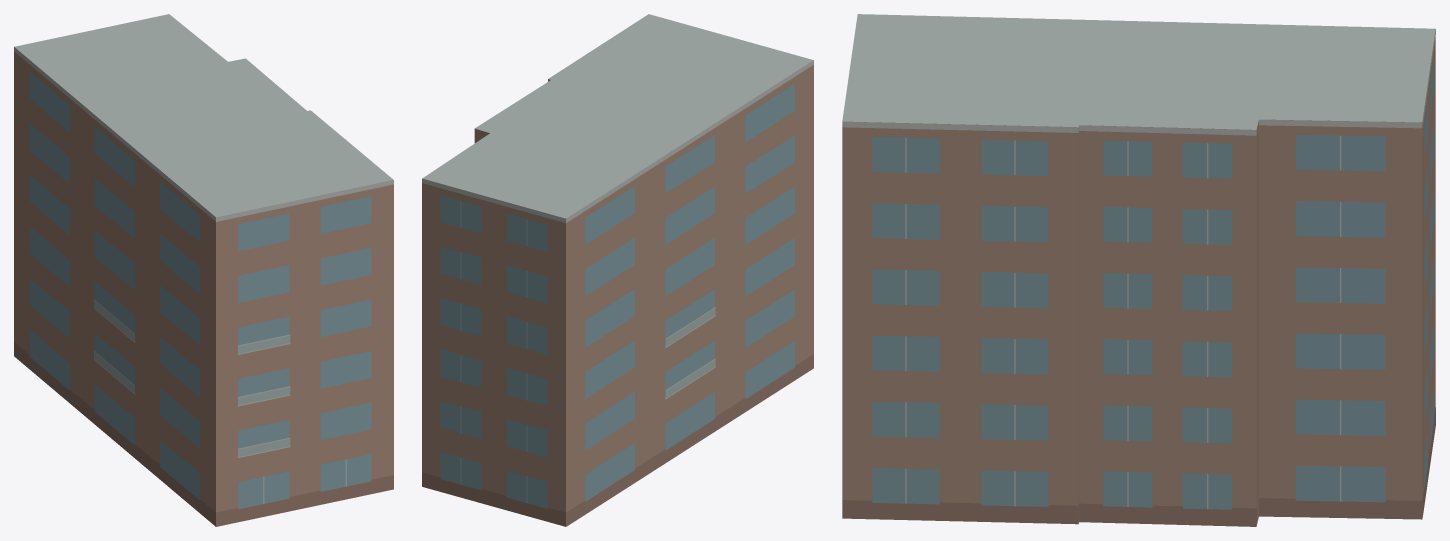
File: survey-upis-32658208.glb
3 views of the same model, side by side, from view 1: azimuth 30°, elevation 25°; view 2: azimuth 150°, elevation 25°; view 3: azimuth 270°, elevation 25° (orthographic). The views are drawn at different scales.
Parts seen in each view (by area): view 1: survey-upis-32658208.tmp; view 2: survey-upis-32658208.tmp; view 3: survey-upis-32658208.tmp.
Part boxes in pixels (bbox=[...]): survey-upis-32658208.tmp: bbox=[14, 14, 393, 526]; survey-upis-32658208.tmp: bbox=[422, 14, 813, 526]; survey-upis-32658208.tmp: bbox=[842, 14, 1435, 526].
Size of the model in its own units: 10.37 by 16.55 by 22.43.
